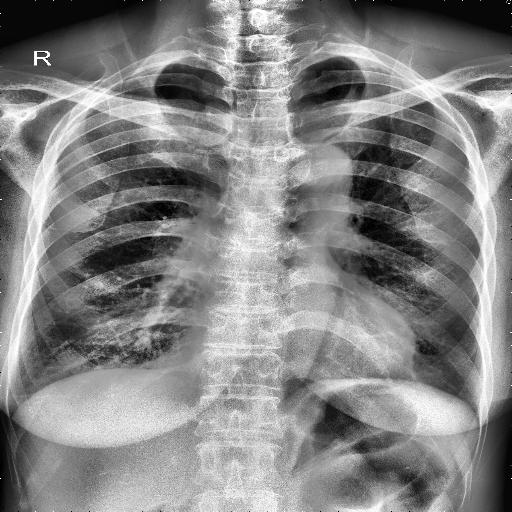0- Aortic enlargement: (266, 140, 356, 209), (274, 141, 352, 213), (287, 138, 347, 210)
